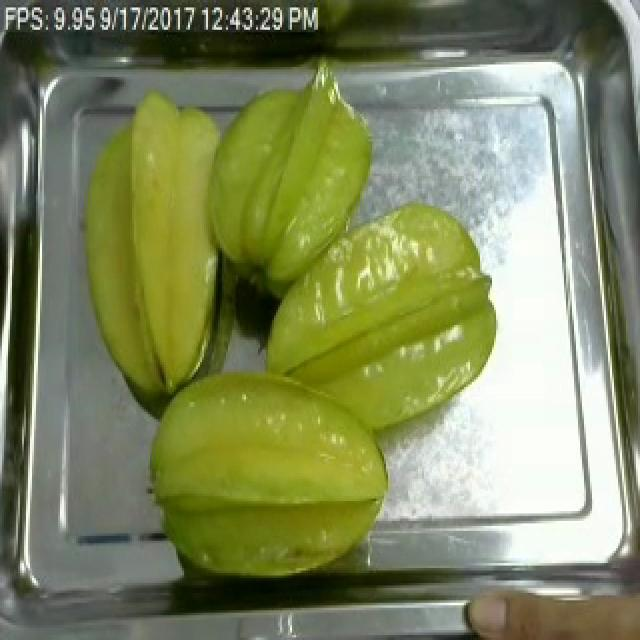fruit: (82, 75, 392, 305), (130, 342, 400, 596), (256, 191, 512, 447), (70, 82, 236, 424), (456, 560, 640, 640)
